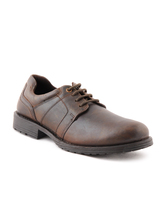shoes: (14, 71, 156, 157)
